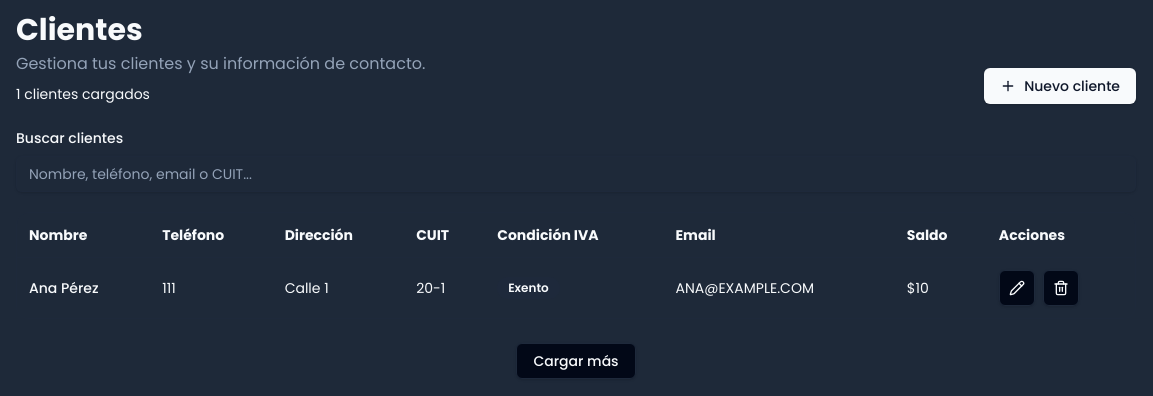
clients page observable states and accessibility › paginates with an explicit load-more action and prevents duplicate loads while pending
The image size is (1153, 396).
Click the button "Cargar más" at (576, 361), box x1=516 y1=343 x2=636 y2=379
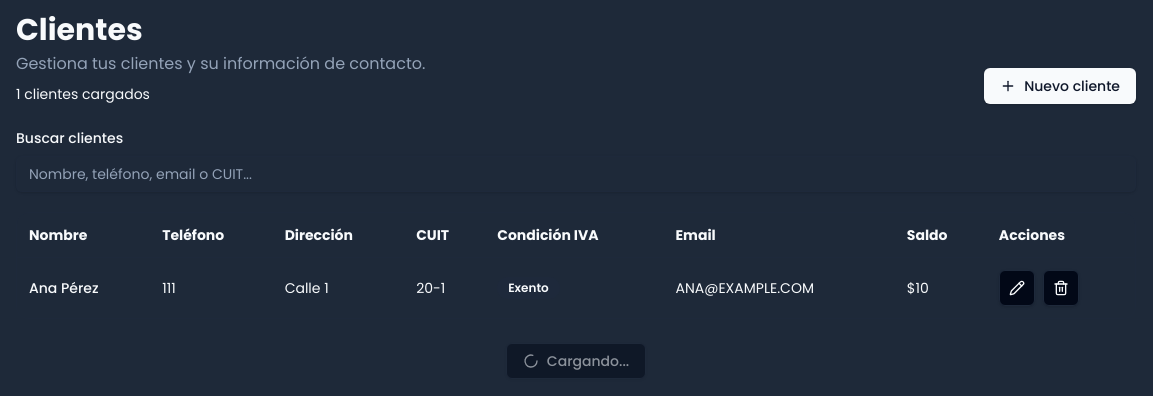
Expected: the button named "cargar más" is disabled, x1=506 y1=343 x2=646 y2=379
